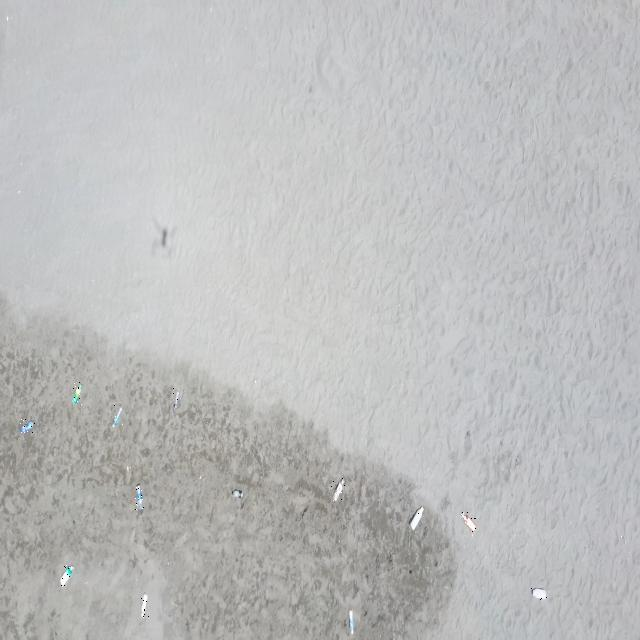Garbage: (409, 506, 423, 528), (460, 512, 475, 532), (332, 476, 343, 500), (60, 564, 72, 586), (135, 484, 143, 510), (531, 587, 547, 599), (347, 609, 355, 633), (71, 383, 80, 404), (111, 407, 120, 426), (173, 387, 180, 411), (140, 595, 147, 616), (20, 420, 32, 432), (232, 488, 243, 499)
